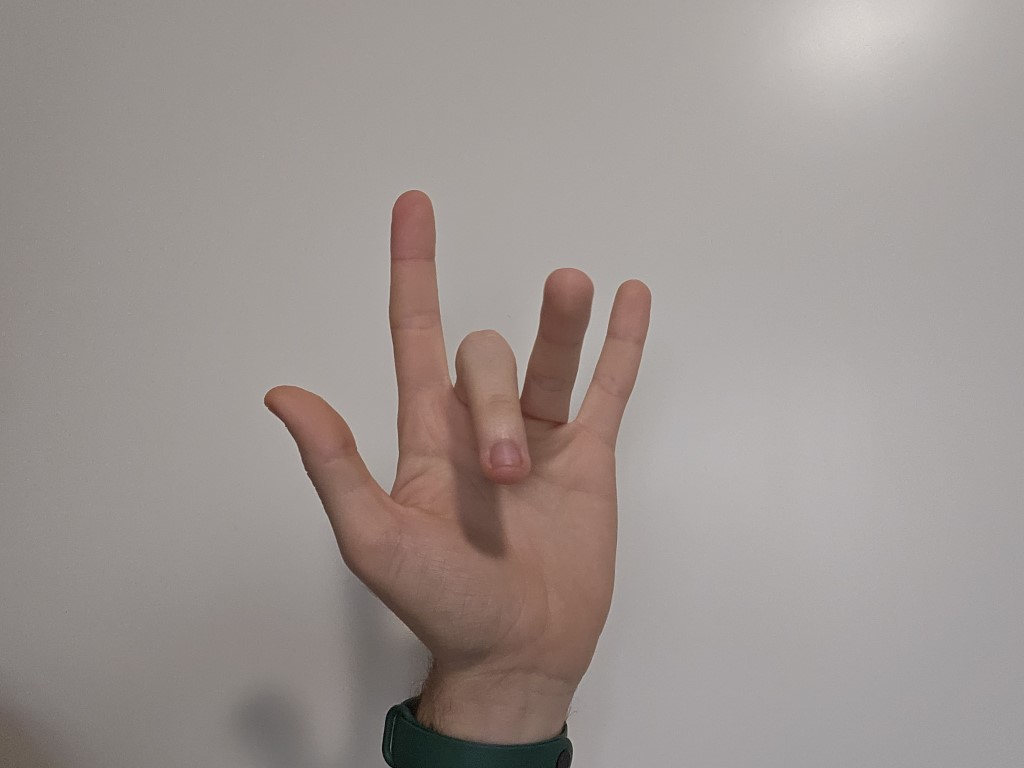reset: (192, 182, 742, 680)
